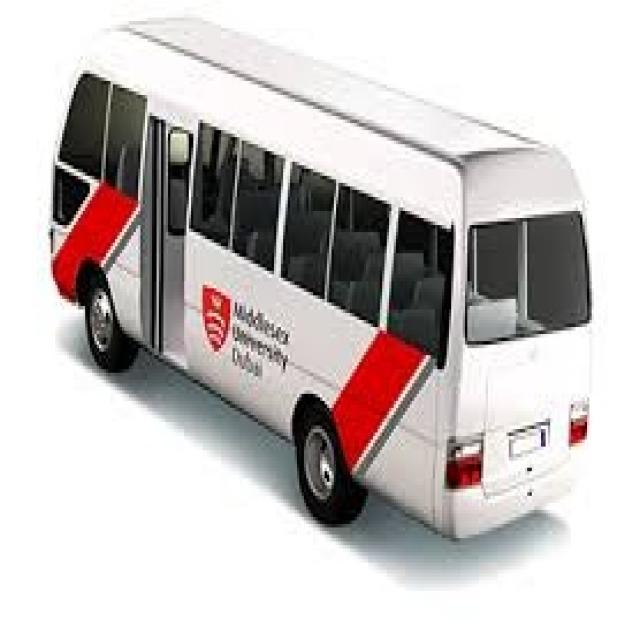bus: (39, 0, 606, 553)
